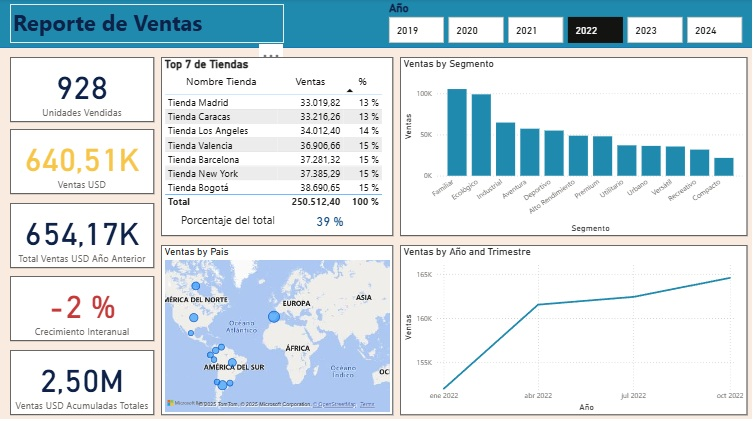

Layout of this report page (visuals, bound fields, positions):
{"tool":"powerbi","page":{"name":"Page 1","canvas":[1280,720],"ordinal":4},"visuals":[{"type":"shape","box":[0,0,1280,83],"z":0},{"type":"advancedSlicerVisual","fields":{"Values":["Fechas.Date.Variación.Jerarquía de fechas.Año"]},"box":[655.2,3.4,611.2,76.2],"z":1000},{"type":"textbox","box":[18.6,8.5,463.9,66],"z":2000},{"type":"card","fields":{"Values":["Ventas.Ventas"]},"box":[18.6,220.1,243.8,110.1],"z":3000},{"type":"card","fields":{"Values":["Ventas.Unidades Vendidas"]},"box":[18.6,98.2,243.8,110.1],"z":4000},{"type":"card","fields":{"Values":["Ventas.Total Ventas Año Anterior"]},"box":[18.6,345.4,243.8,110.1],"z":5000},{"type":"card","fields":{"Values":["Ventas.Crecimiento Interanual"]},"box":[18.6,469,243.8,110.1],"z":6000},{"type":"card","fields":{"Values":["Ventas.Ventas Acumuladas"]},"box":[18.6,594.3,243.8,110.1],"z":7000},{"type":"tableEx","title":"Top 7 de Tiendas","fields":{"Values":["Tiendas.Nombre Tienda","Ventas.Ventas","Ventas.% Ventas por Tienda"]},"box":[274.3,98.2,392.8,303.1],"z":8000},{"type":"columnChart","fields":{"Category":["Producto.Segmento"],"Y":["Ventas.Ventas"]},"box":[678.9,98.2,587.5,303.1],"z":9000},{"type":"lineChart","fields":{"Y":["Ventas.Ventas"],"Category":["Fechas.Date.Variación.Jerarquía de fechas.Año","Fechas.Date.Variación.Jerarquía de fechas.Trimestre"]},"box":[678.9,416.5,587.5,287.8],"z":10000},{"type":"map","fields":{"Category":["Tiendas.Pais","Tiendas.Ciudad"],"Size":["Ventas.Ventas"]},"box":[274.3,416.5,392.8,287.8],"z":11000},{"type":"card","fields":{"Values":["Ventas.% Top 7 del Total"]},"box":[519.8,355.6,81.3,40.6],"z":12000},{"type":"textbox","box":[303.1,355.6,179.5,40.6],"z":13000}]}

Visuals, with their boxes in screenshot pixels (x1, y1, x2, y2), scaled from the page's 1280x720 canvas onto the 753x421 screenshot:
shape: {"x1": 0, "y1": 0, "x2": 752, "y2": 49}
advancedSlicerVisual - Fechas.Date.Variación.Jerarquía de fechas.Año: {"x1": 385, "y1": 2, "x2": 745, "y2": 47}
textbox: {"x1": 11, "y1": 5, "x2": 284, "y2": 44}
card - Ventas.Ventas: {"x1": 11, "y1": 129, "x2": 154, "y2": 193}
card - Ventas.Unidades Vendidas: {"x1": 11, "y1": 57, "x2": 154, "y2": 122}
card - Ventas.Total Ventas Año Anterior: {"x1": 11, "y1": 202, "x2": 154, "y2": 266}
card - Ventas.Crecimiento Interanual: {"x1": 11, "y1": 274, "x2": 154, "y2": 339}
card - Ventas.Ventas Acumuladas: {"x1": 11, "y1": 348, "x2": 154, "y2": 412}
"Top 7 de Tiendas" tableEx: {"x1": 161, "y1": 57, "x2": 392, "y2": 235}
columnChart - Producto.Segmento x Ventas.Ventas: {"x1": 399, "y1": 57, "x2": 745, "y2": 235}
lineChart - Ventas.Ventas x Fechas.Date.Variación.Jerarquía de fechas.Año: {"x1": 399, "y1": 244, "x2": 745, "y2": 412}
map - Tiendas.Pais x Tiendas.Ciudad: {"x1": 161, "y1": 244, "x2": 392, "y2": 412}
card - Ventas.% Top 7 del Total: {"x1": 306, "y1": 208, "x2": 354, "y2": 232}
textbox: {"x1": 178, "y1": 208, "x2": 284, "y2": 232}
